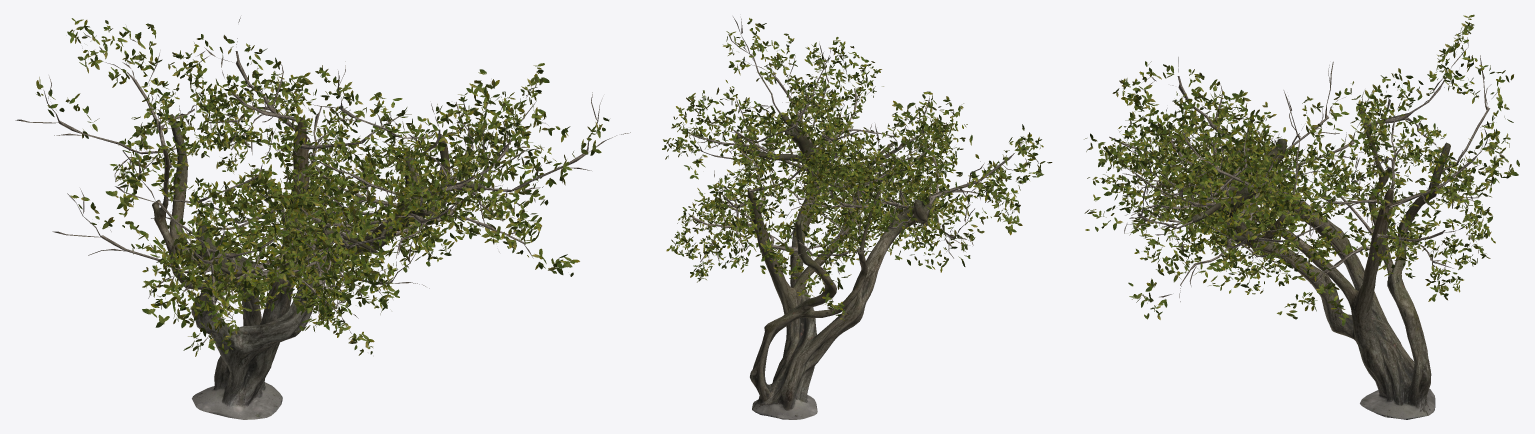
File: island_tree_02.glb
The picture shows the model from 3 angles, left to right: view 1: azimuth 30°, elevation 25°; view 2: azimuth 150°, elevation 25°; view 3: azimuth 270°, elevation 25°; orthographic projection. The views are drawn at different scales.
Visible parts, largest first — view 1: a_lod0; view 2: a_lod0; view 3: a_lod0.
Part boxes in pixels (x1,y1,x2,y2): a_lod0: [15, 17, 630, 419]; a_lod0: [662, 17, 1052, 419]; a_lod0: [1084, 14, 1519, 419].
Size of what is drawn, in the model's own units: 4.21 by 3.41 by 4.04.
3 materials, 3 textured.
